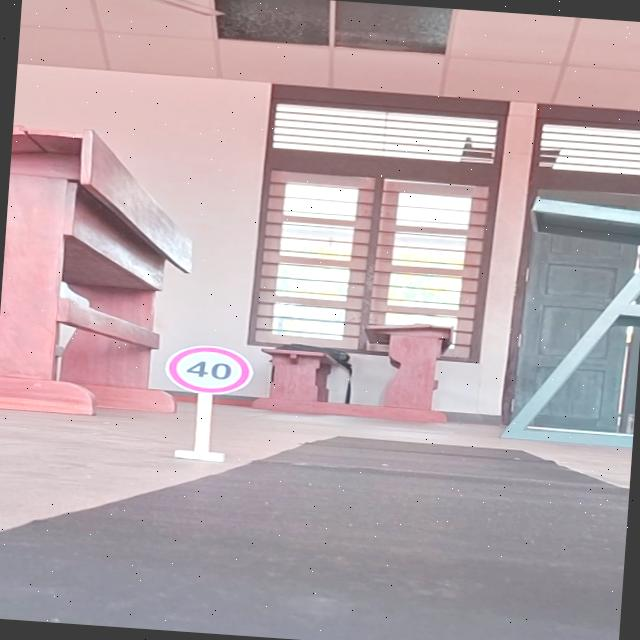Speed40: (162, 338, 257, 402)
